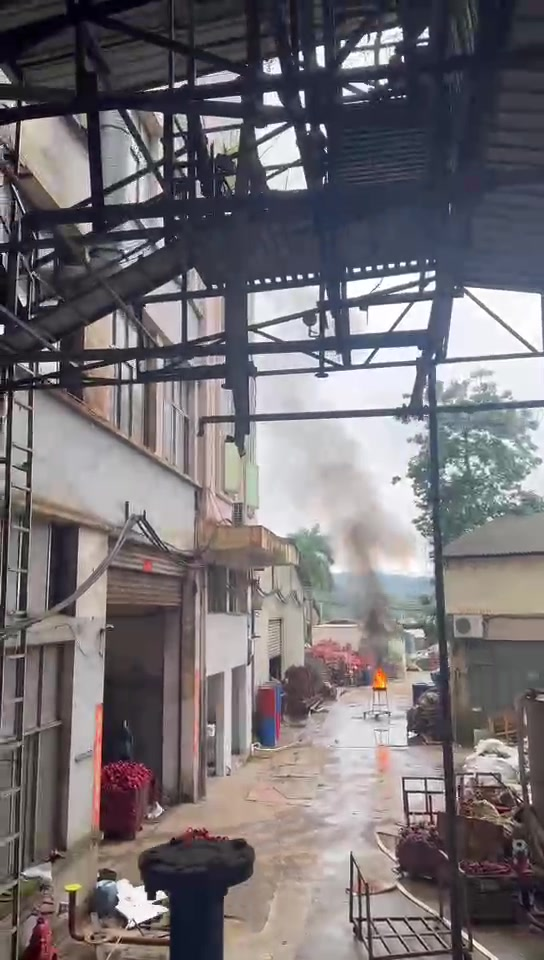fire: (372, 665, 387, 689)
